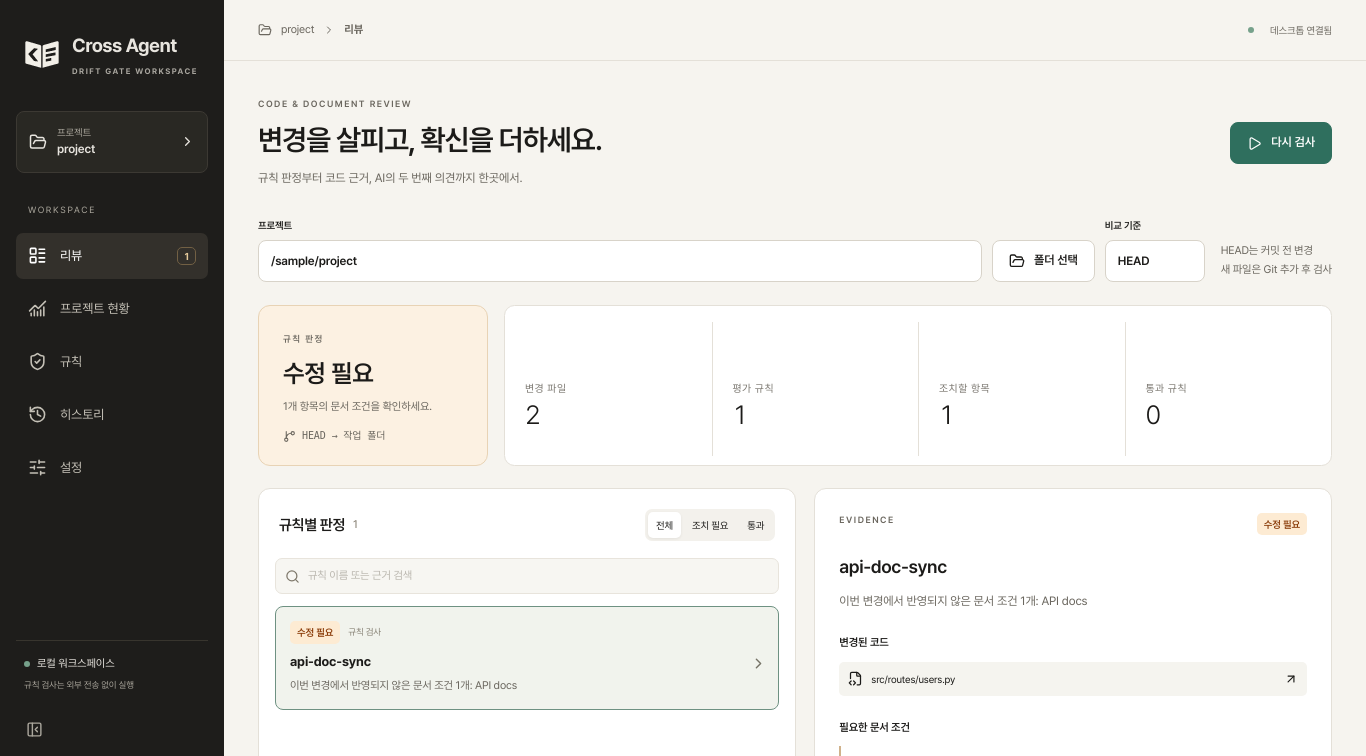
it: desktop review flow › filters findings without changing the gate
What coordinates should you click on to do the following:
click the button "통과"
I would click on:
 (756, 525)
Its box is [739,512,772,538].
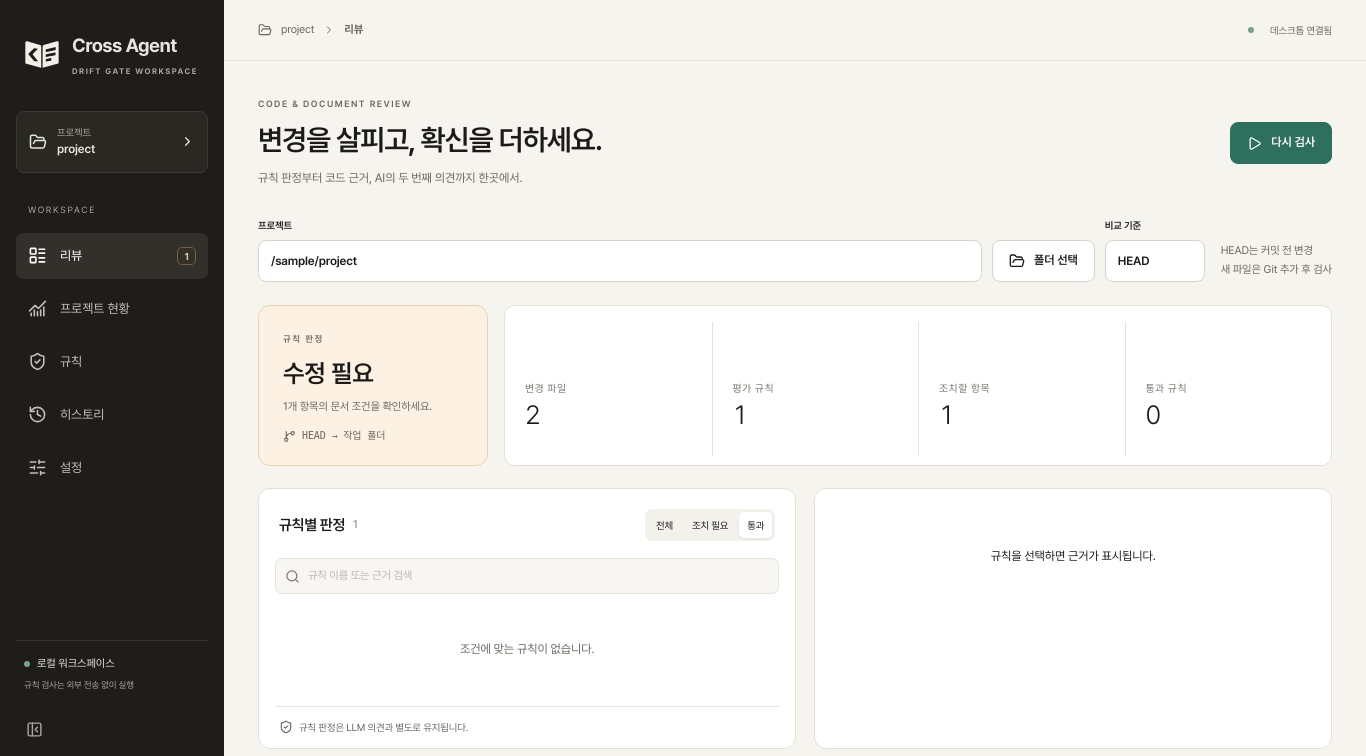
Expected: the heading "수정 필요" is shown, [283,358,373,388]
Now the text "조건에 맞는 규칙이 없습니다." is shown, box [460,642,594,656]
